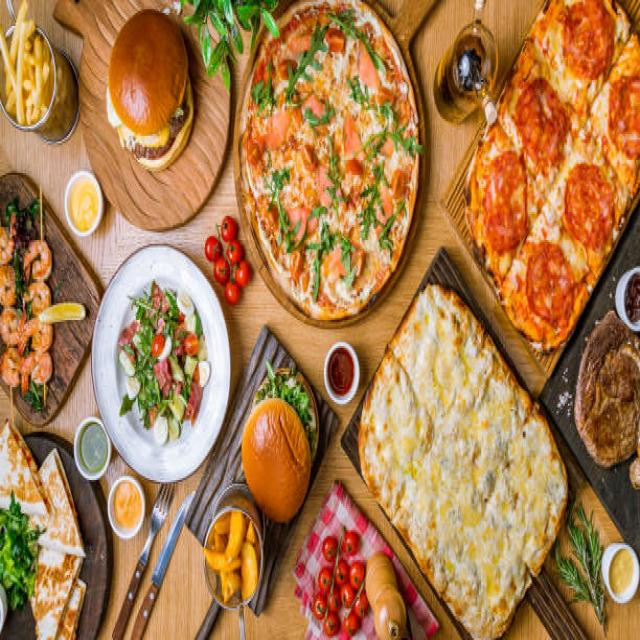burger: (108, 9, 195, 175), (241, 365, 320, 521)
pizza: (359, 282, 568, 640), (463, 0, 640, 357), (243, 0, 421, 317)
